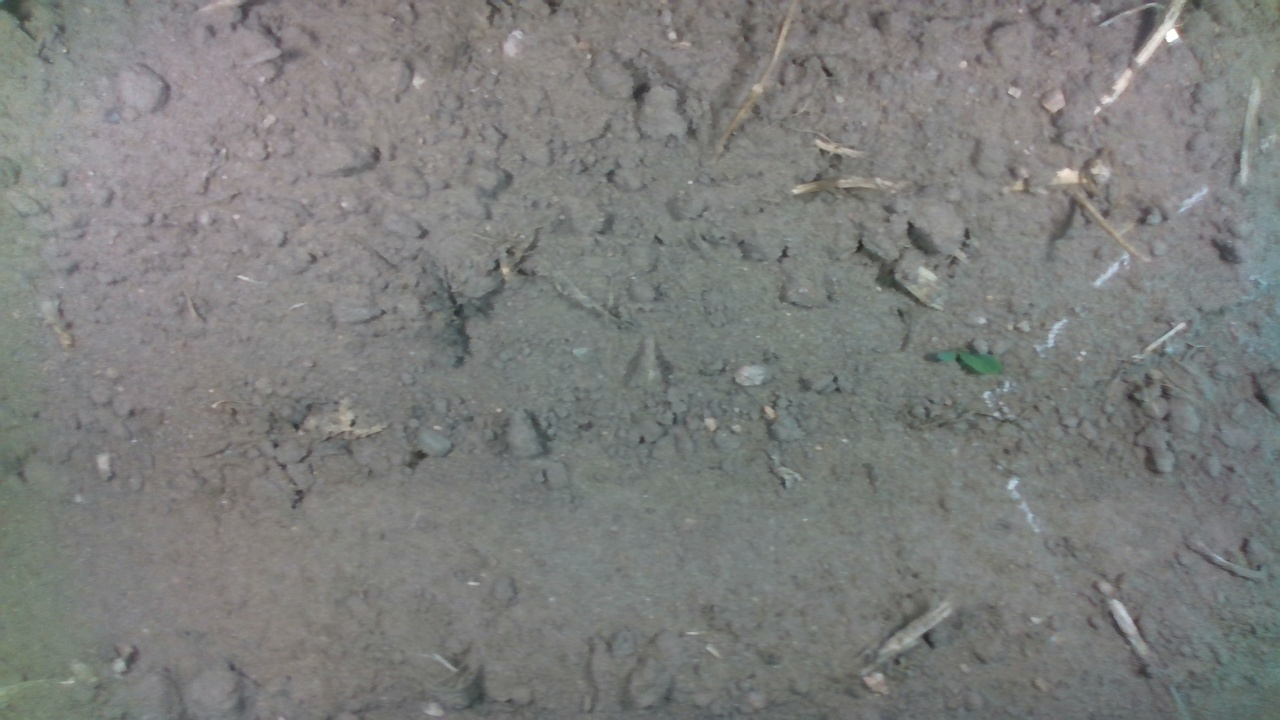weed: (933, 345, 1006, 377)
